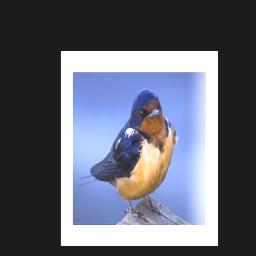Swallow: (77, 86, 180, 222)
